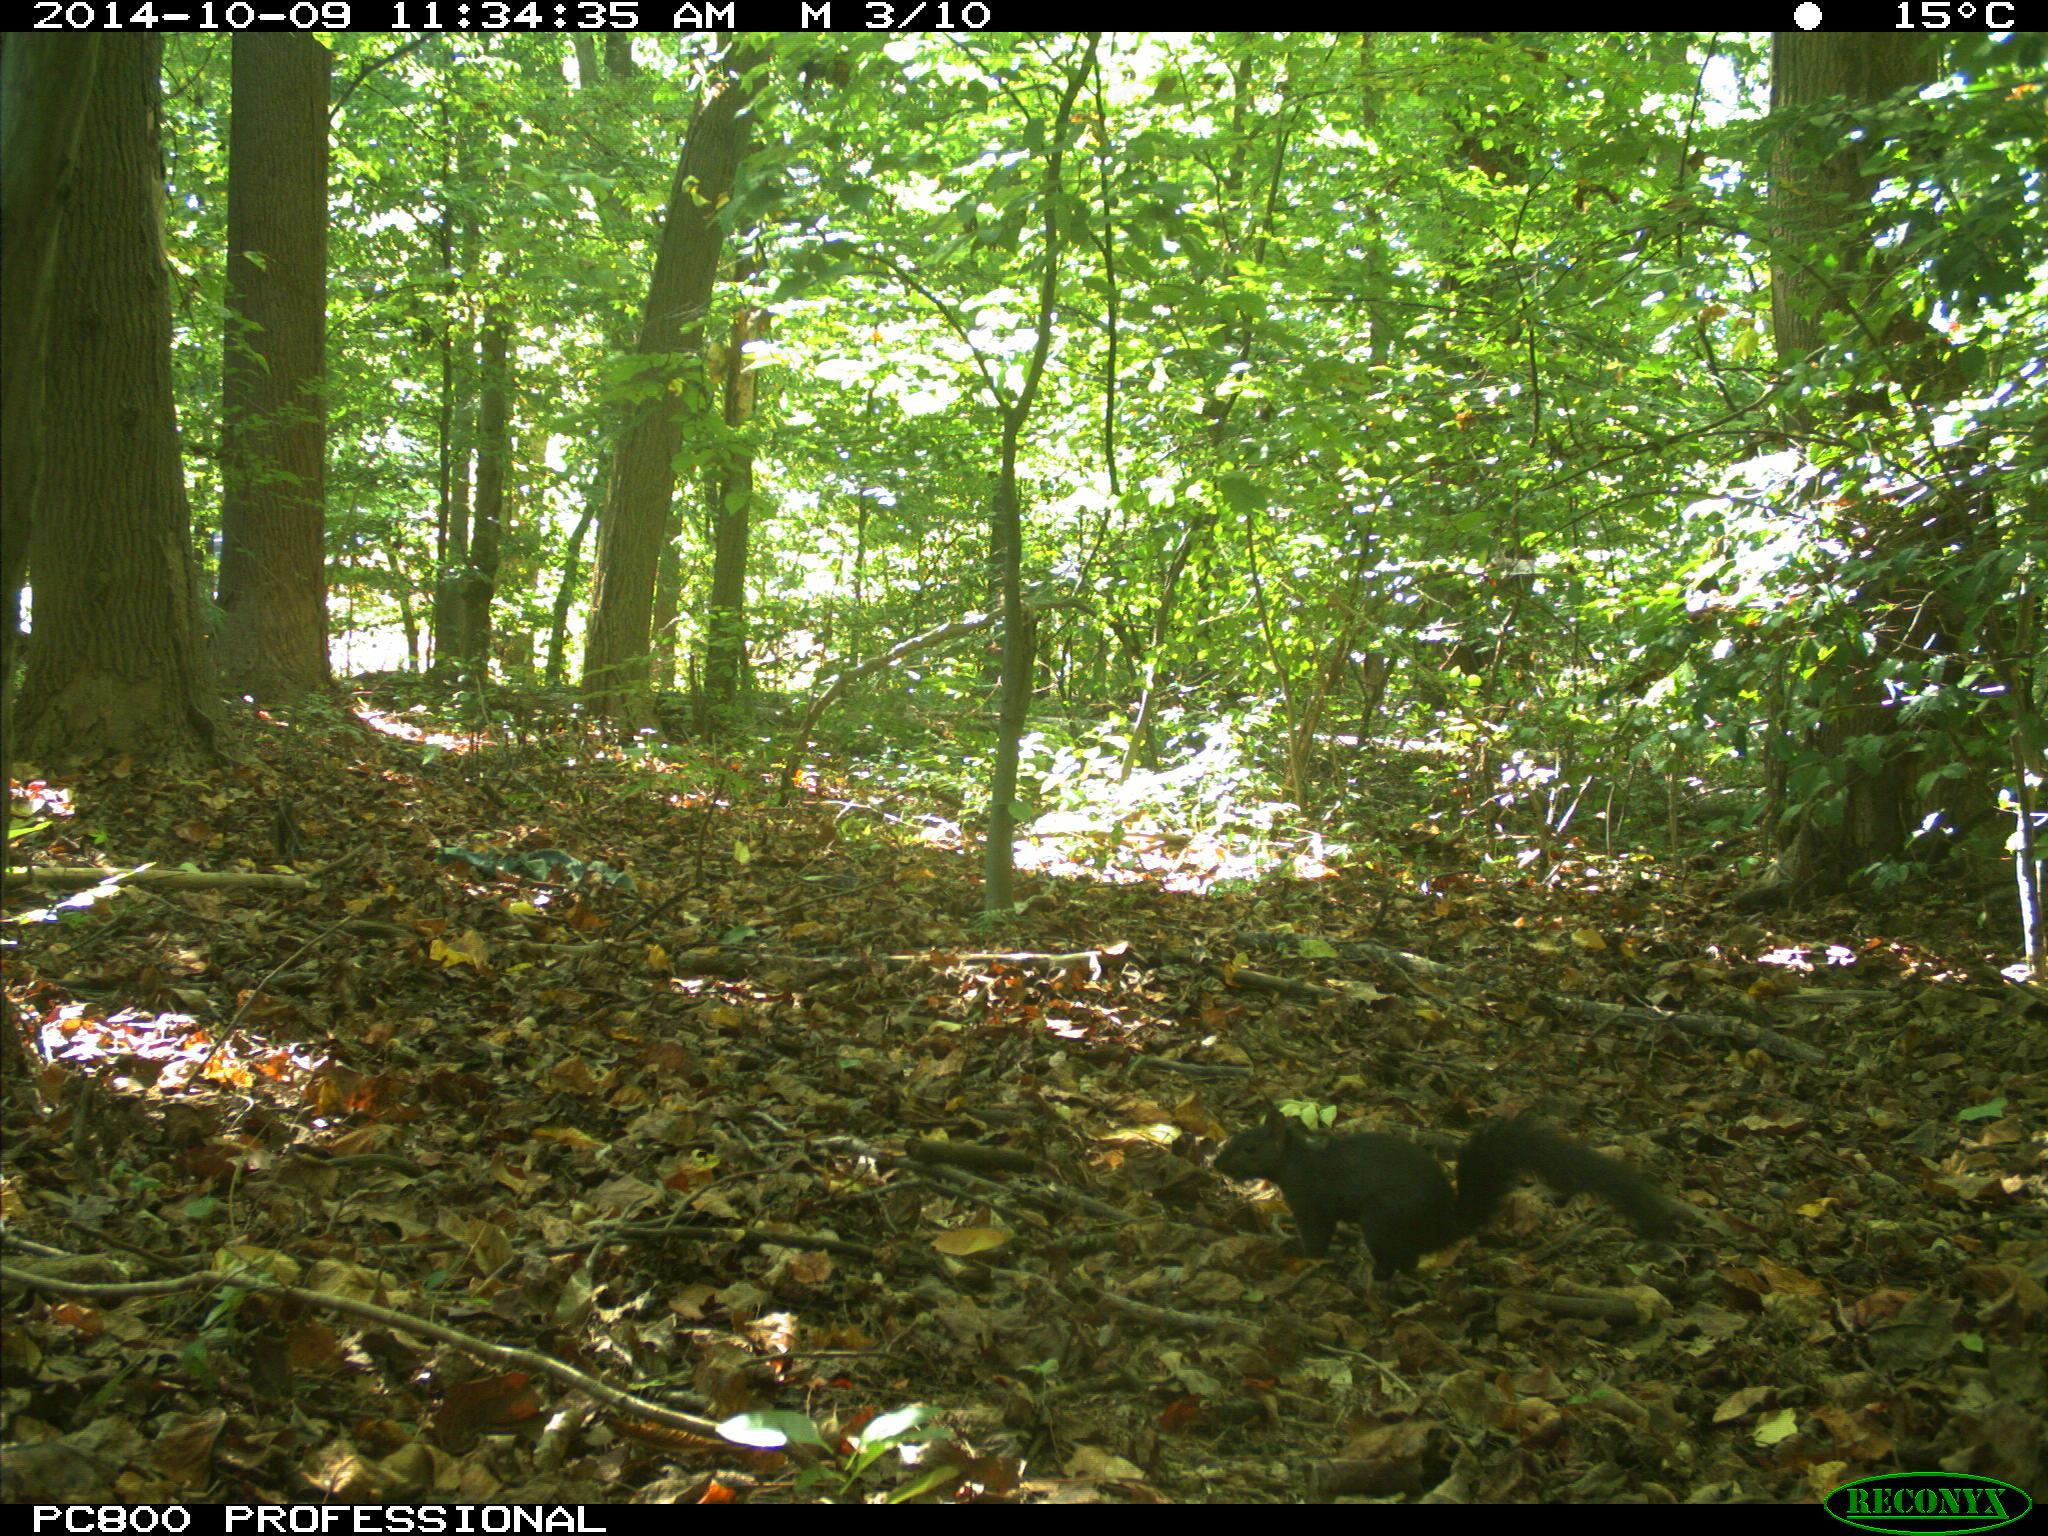Animal: (1216, 1108, 1651, 1275)
